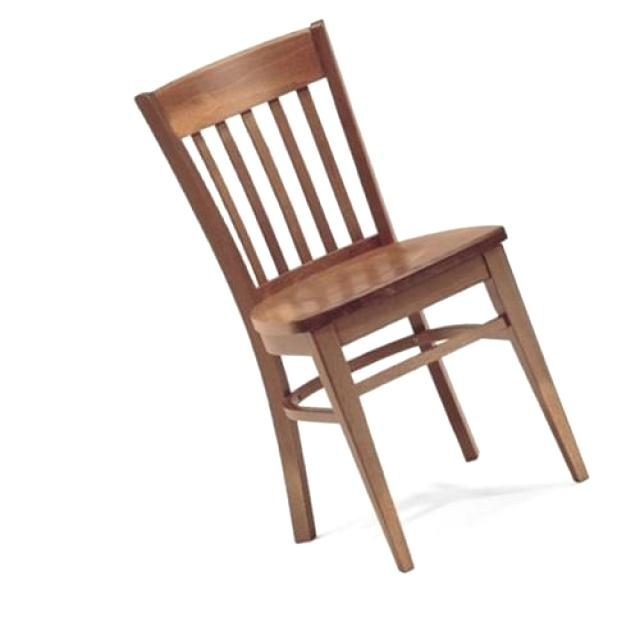Chair: (131, 18, 595, 576)
